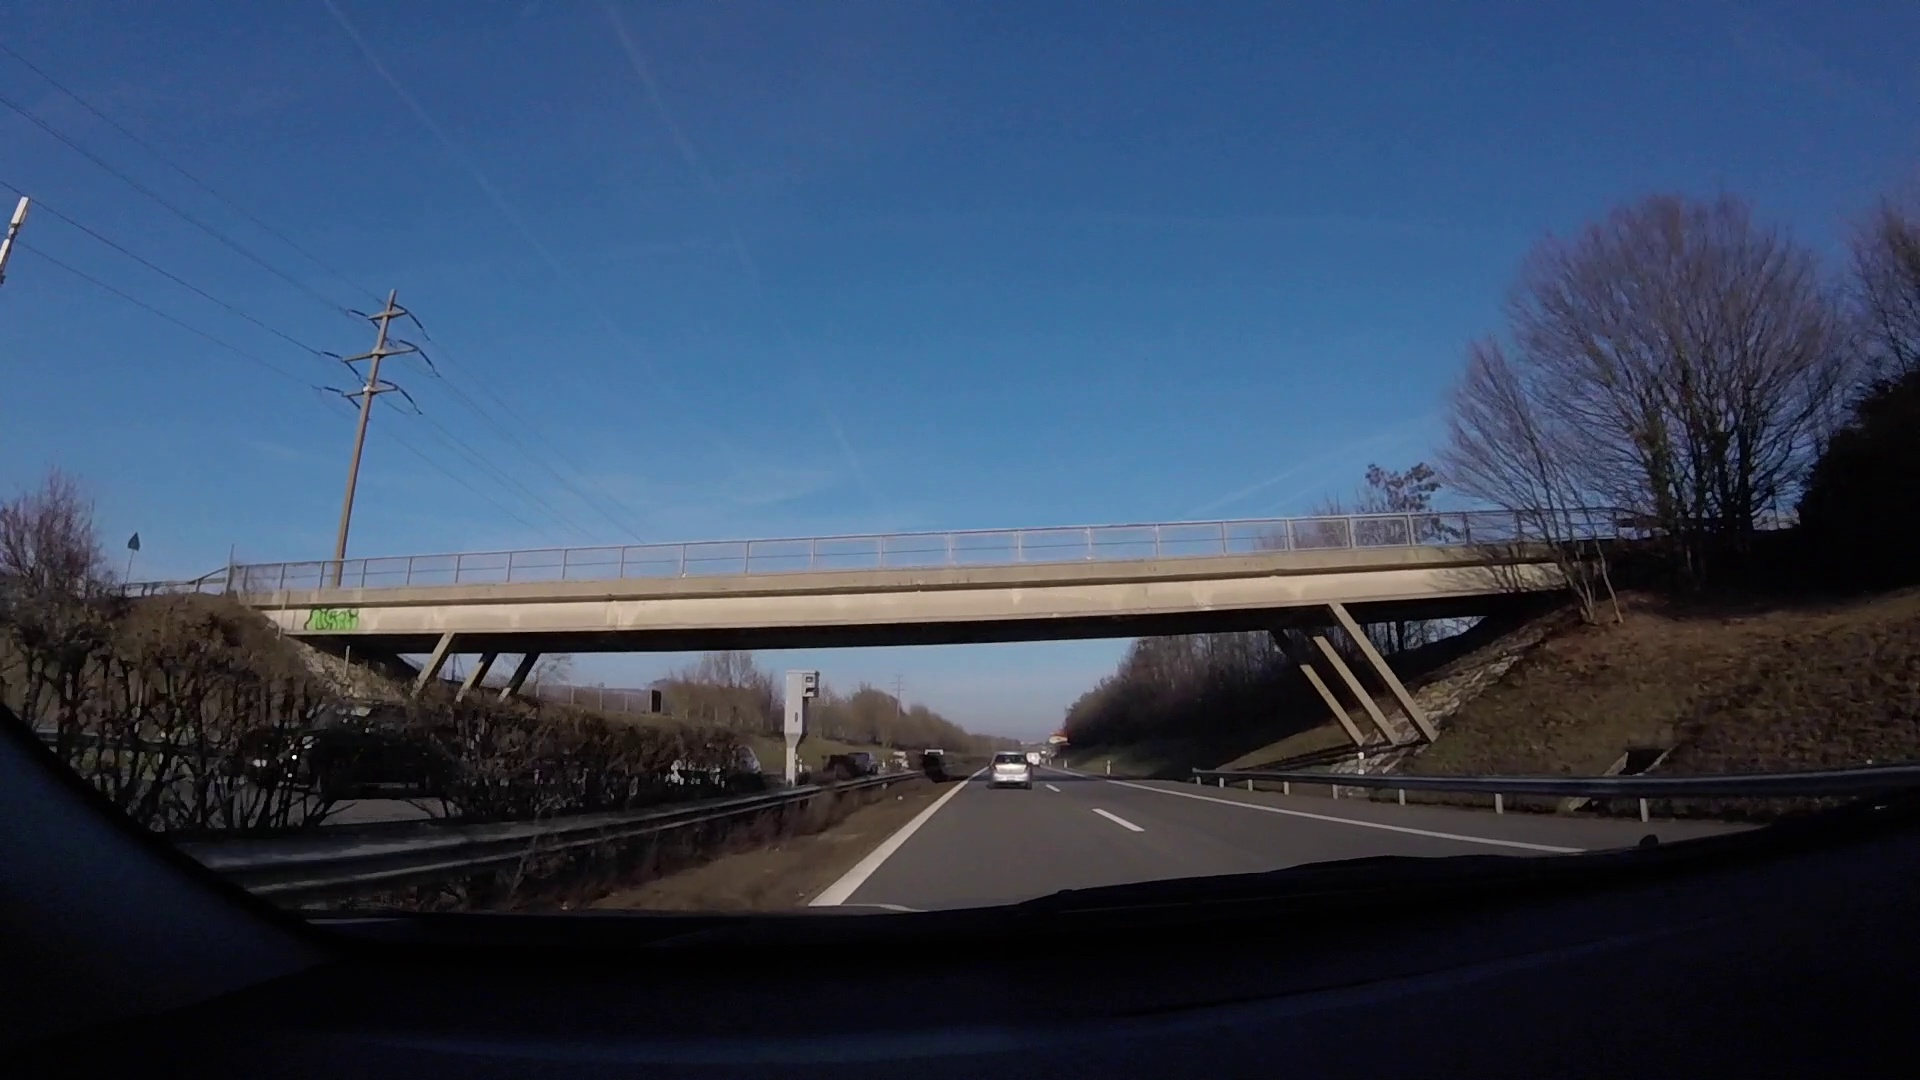radar: (781, 667, 823, 790)
